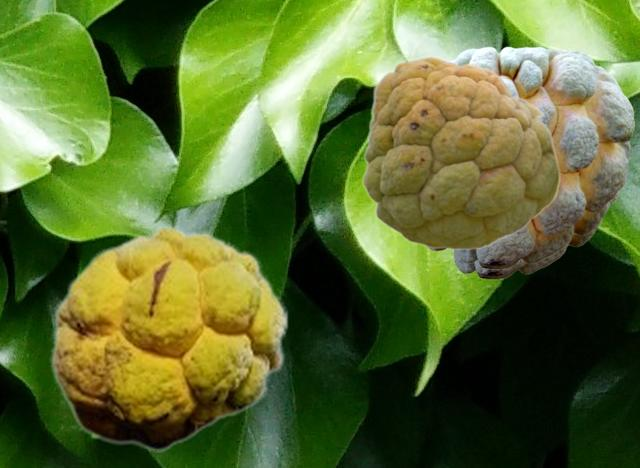atis: (49, 224, 288, 451), (450, 46, 633, 268), (361, 55, 559, 249), (429, 191, 621, 278)
